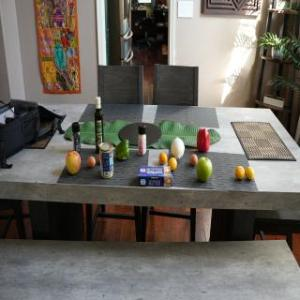bell_pepper: (196, 127, 212, 151), (116, 140, 130, 160)
egg: (189, 152, 199, 168), (87, 155, 97, 169), (97, 155, 103, 165)
onion: (171, 136, 185, 157)
